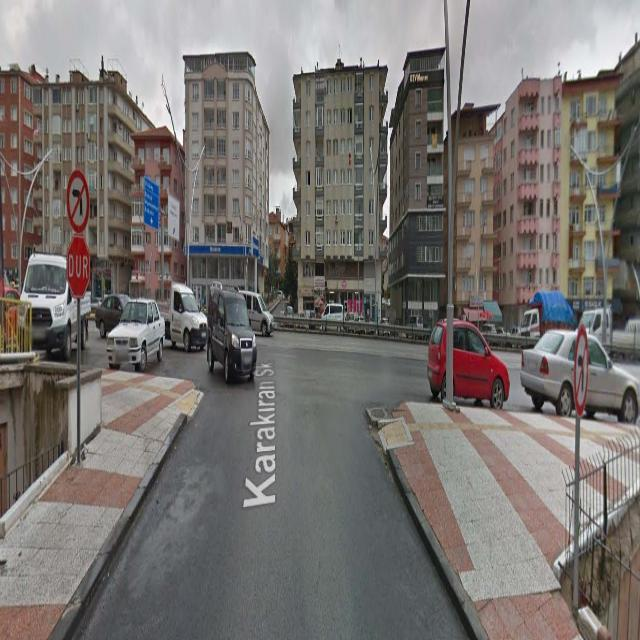dur: (66, 234, 89, 298)
soladonulmez: (66, 170, 90, 233), (574, 324, 588, 417)
